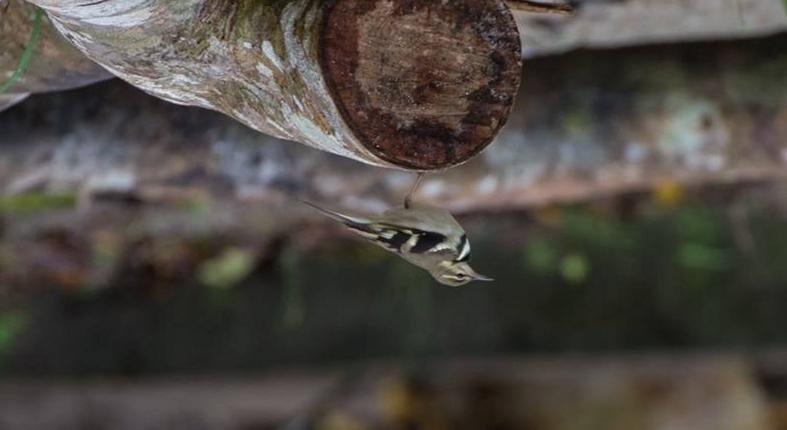wagtail: (335, 163, 516, 313)
